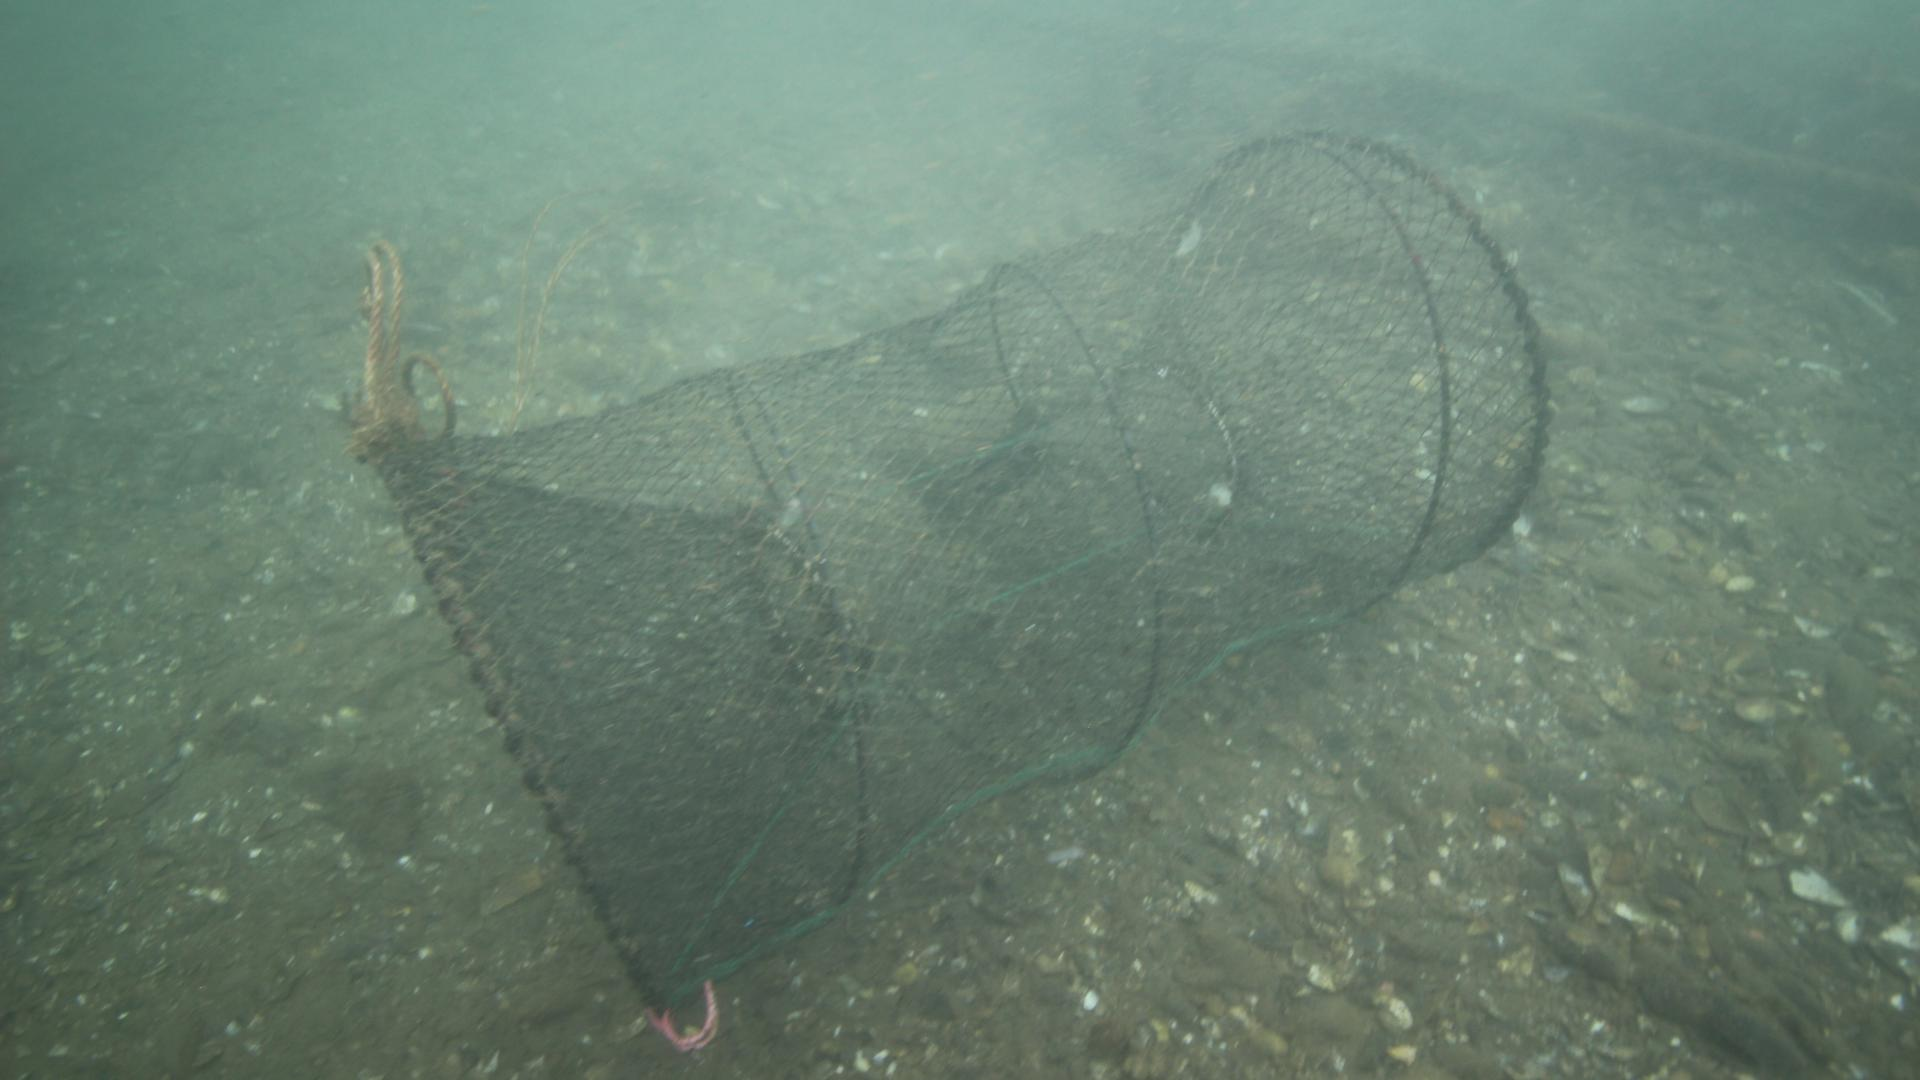bundle of ropes: (327, 208, 450, 448)
spring fish trap: (378, 127, 1549, 1018)
